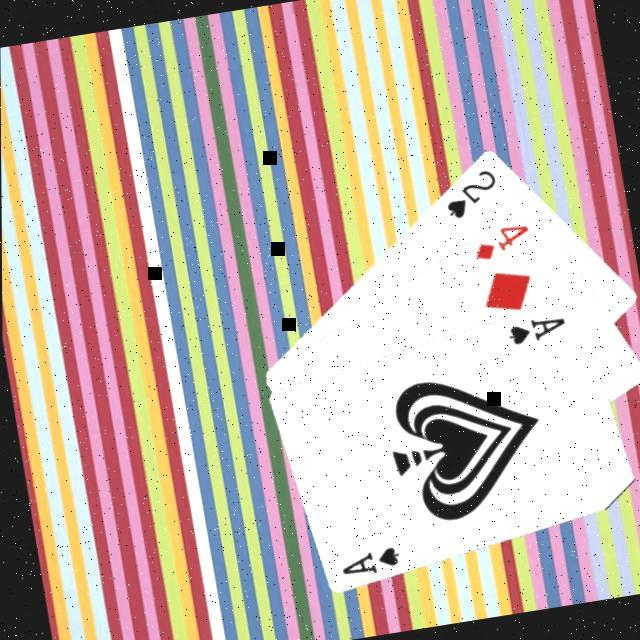2S: (438, 164, 506, 225)
4D: (468, 218, 538, 266)
AS: (336, 542, 406, 582), (504, 310, 572, 350)
